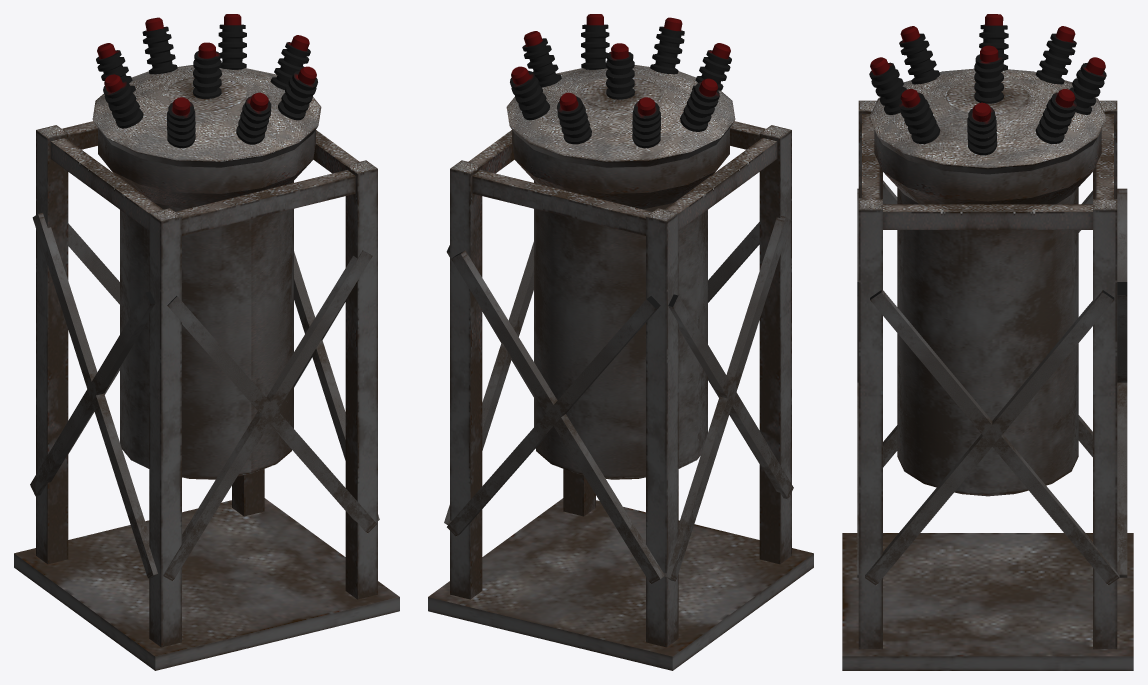
File: Power Transformer.fbx
3 renders of one model, left to right at view 1: azimuth 30°, elevation 25°; view 2: azimuth 150°, elevation 25°; view 3: azimuth 270°, elevation 25°, orthographic. The views are drawn at different scales.
Parts seen in each view (by area): view 1: Transformador; view 2: Transformador; view 3: Transformador.
Boxes of the visible parts, x1,y1,x2,y2 form: Transformador: [14, 14, 399, 670]; Transformador: [428, 14, 813, 670]; Transformador: [842, 14, 1133, 670].
Bounding box in the file's own units: 125 × 266 × 125.
